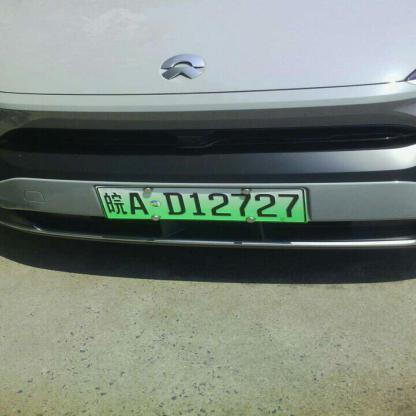lp: (95, 187, 307, 221)
